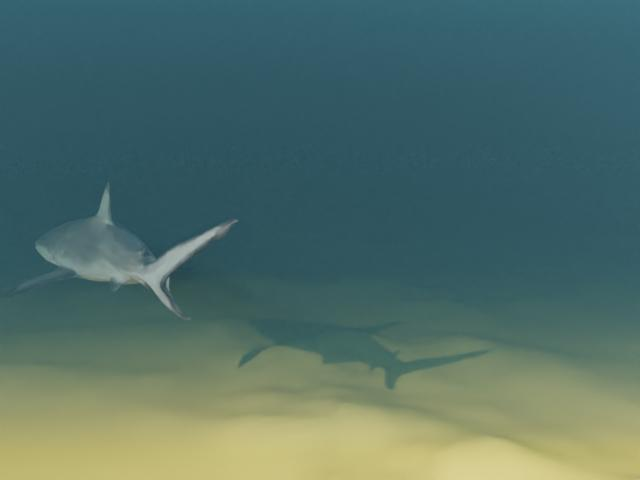Carribean Shark.001: (3, 182, 238, 320)
